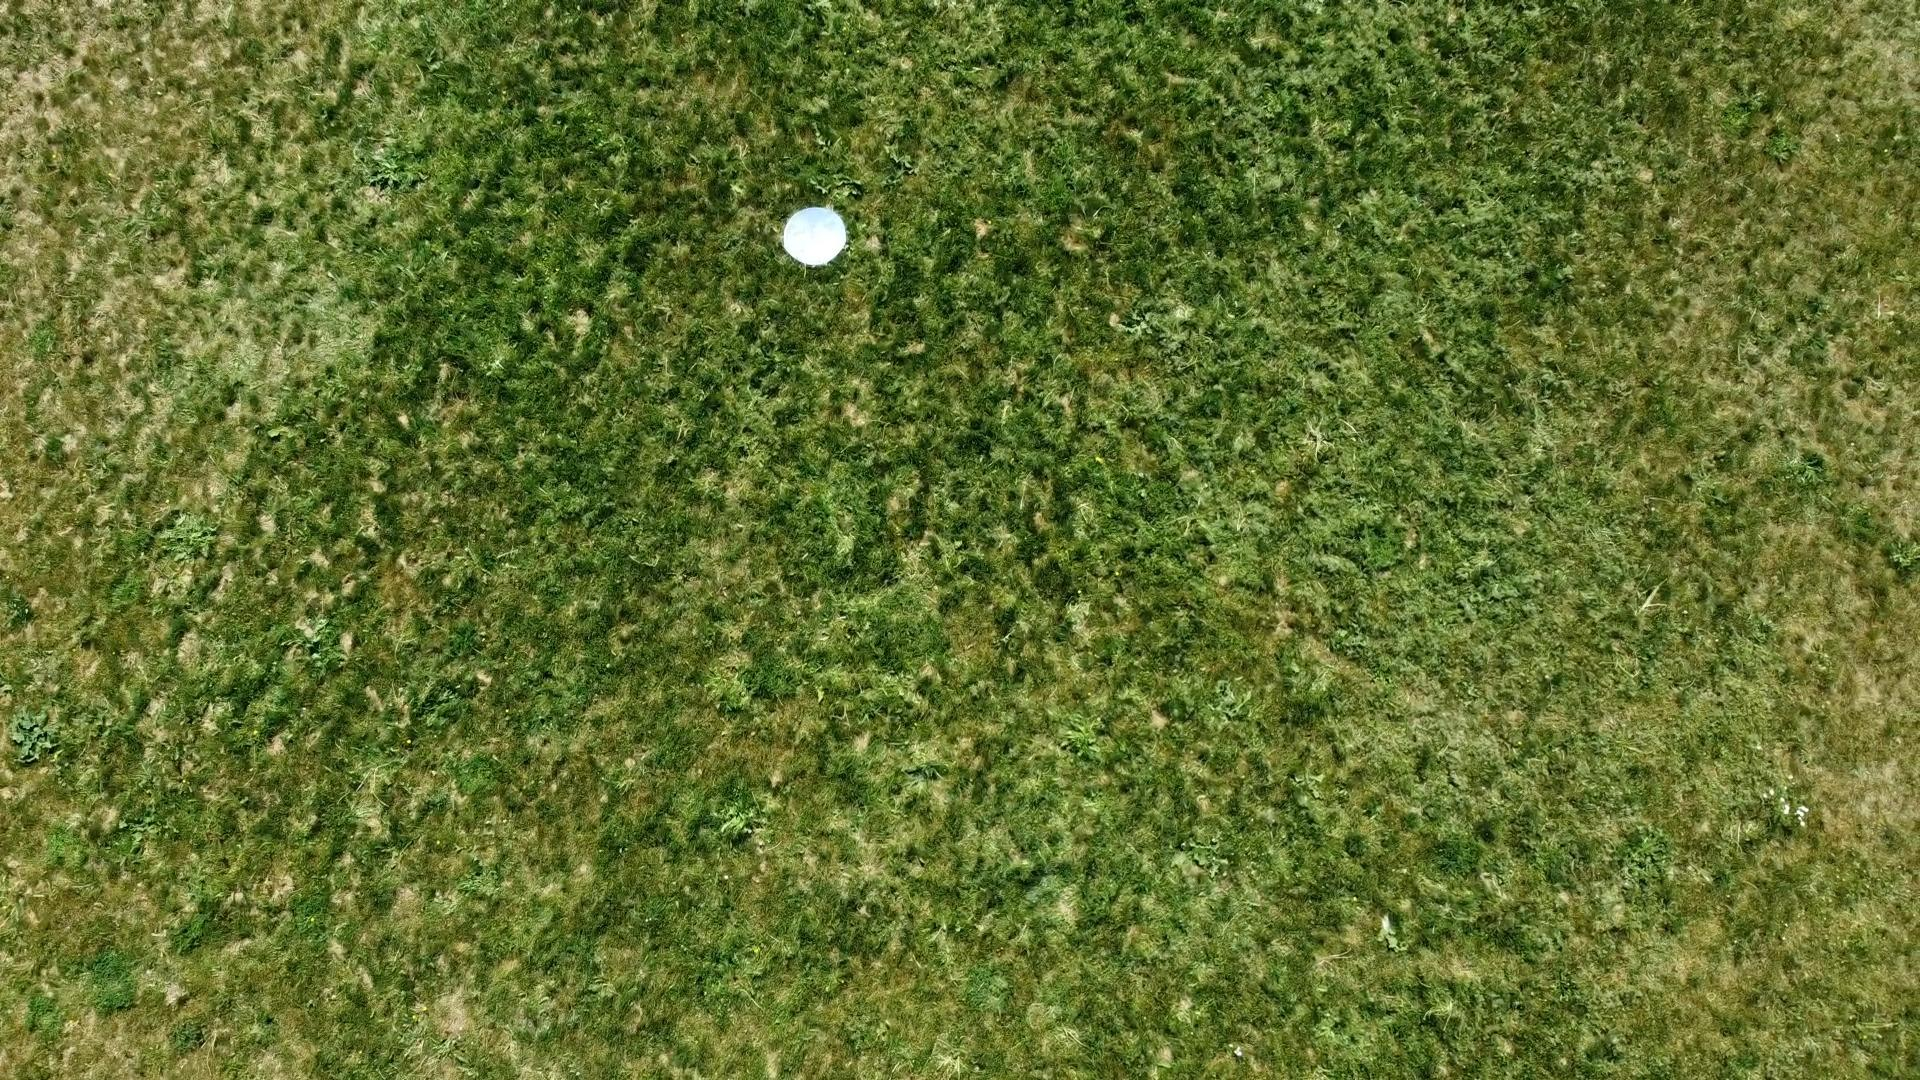Blue: (781, 203, 851, 268)
